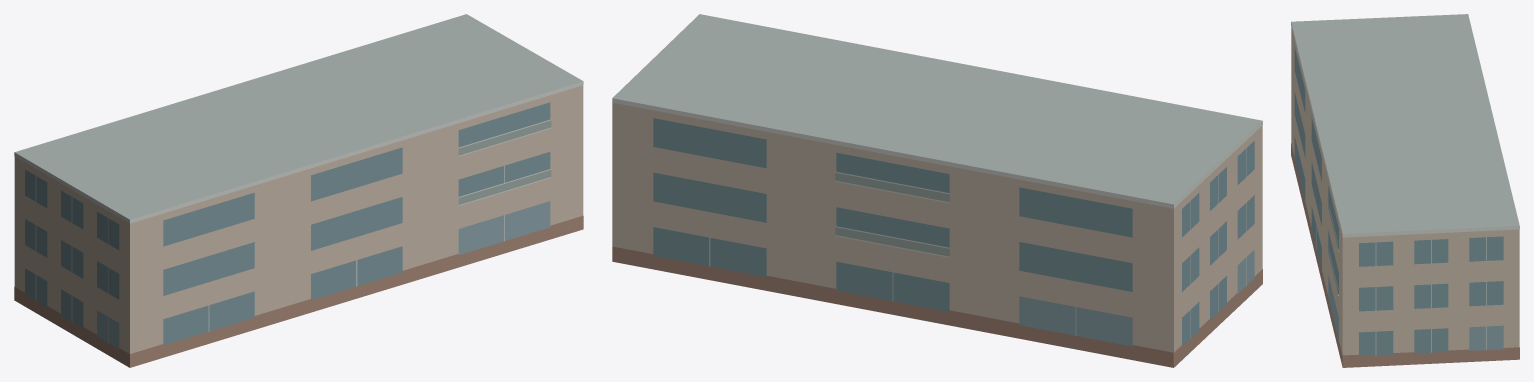
The model's file is survey-upis-32627963.glb.
3 renders of one model, left to right at view 1: azimuth 30°, elevation 25°; view 2: azimuth 150°, elevation 25°; view 3: azimuth 270°, elevation 25°, orthographic. The views are drawn at different scales.
Visible parts, largest first — view 1: survey-upis-32627963.tmp; view 2: survey-upis-32627963.tmp; view 3: survey-upis-32627963.tmp.
Part boxes in pixels (<box>): survey-upis-32627963.tmp: <box>14,14,583,367</box>; survey-upis-32627963.tmp: <box>612,14,1262,367</box>; survey-upis-32627963.tmp: <box>1291,14,1519,367</box>.
Size of the model in its own units: 32.29 by 9.15 by 14.18.
